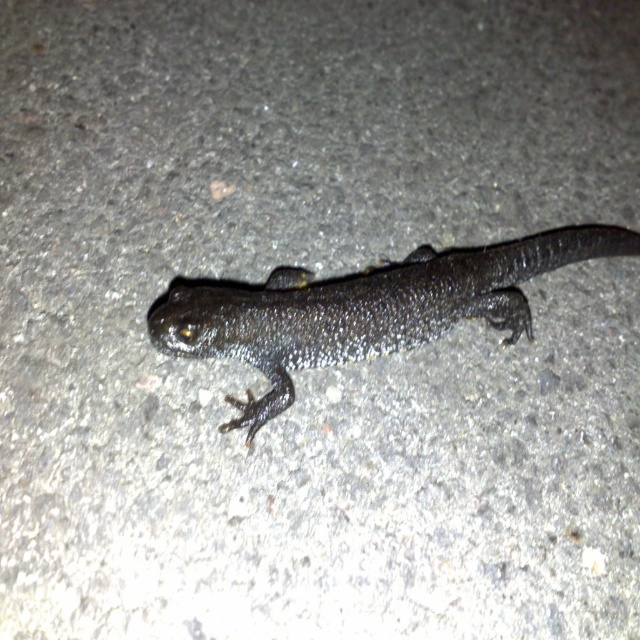Lizard: (146, 223, 640, 447)
